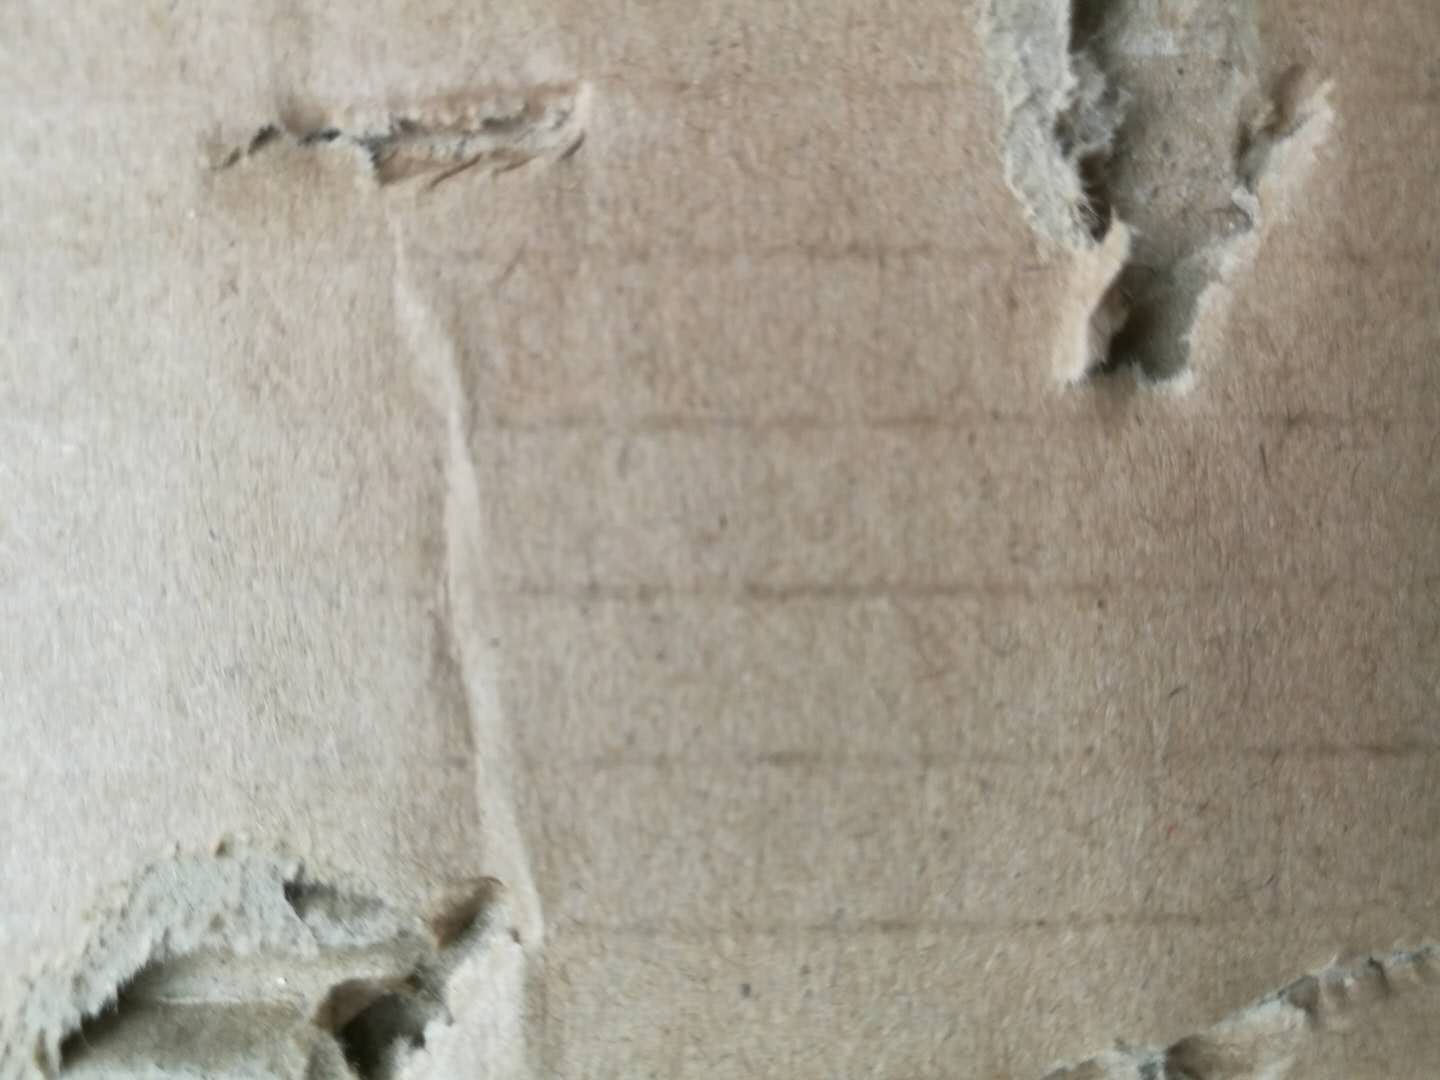defect: (939, 1, 1386, 444), (332, 242, 610, 846), (1, 817, 600, 1080), (173, 47, 712, 228), (986, 920, 1435, 1080)
